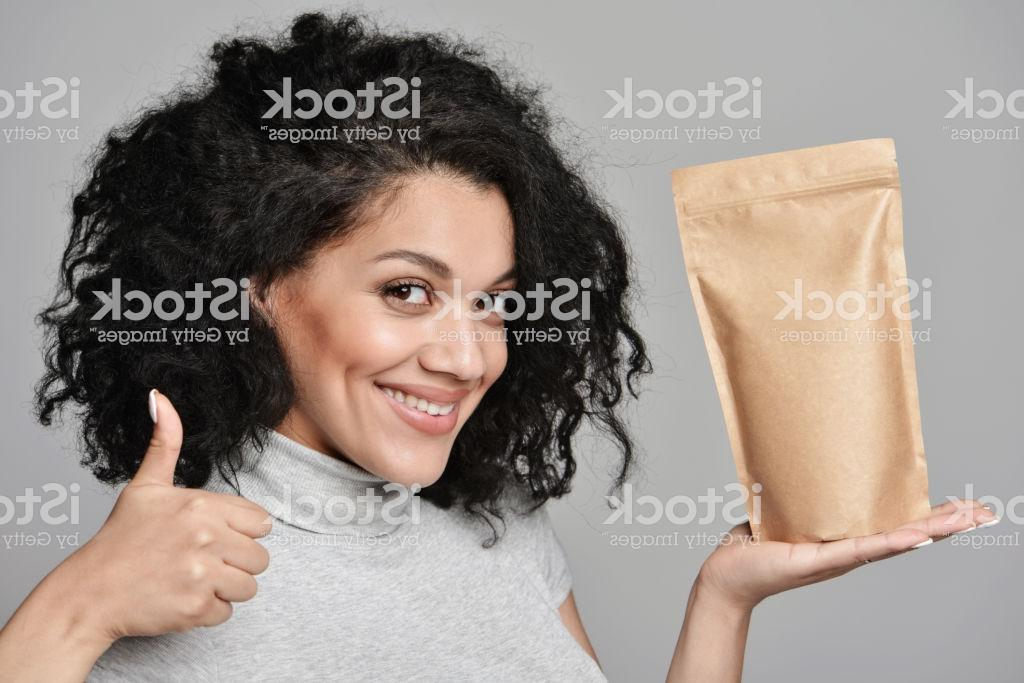thumbsup: (120, 385, 275, 644)
